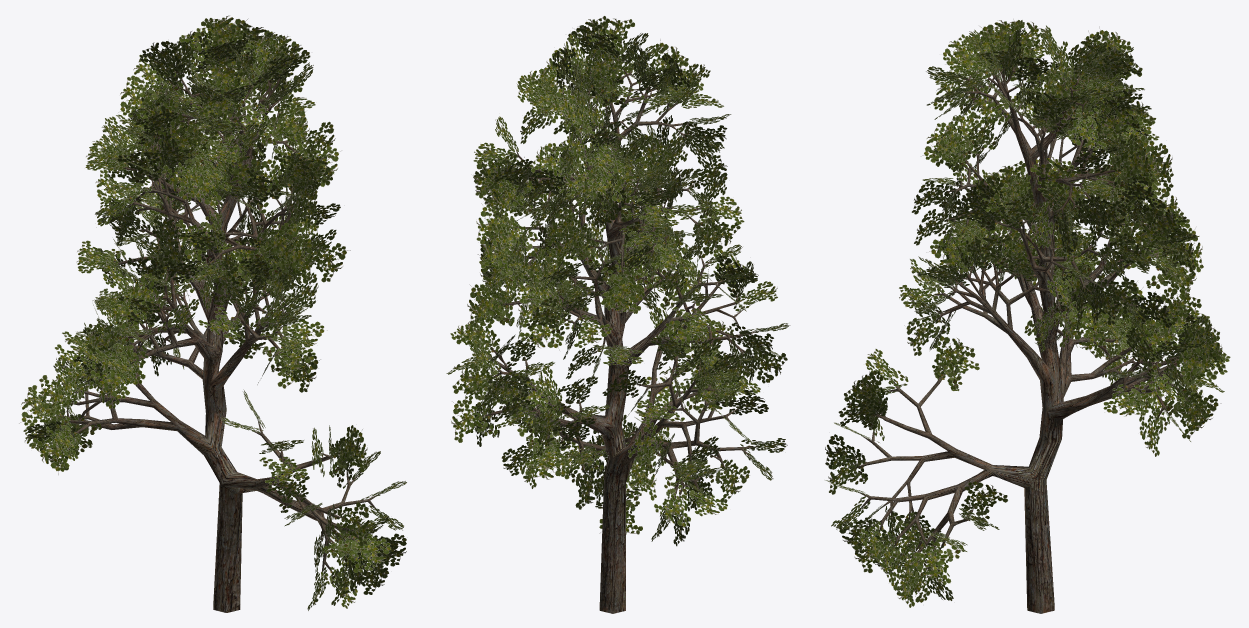
The model's file is tree-1-10.obj.
3 views of the same model, side by side, from view 1: azimuth 30°, elevation 25°; view 2: azimuth 150°, elevation 25°; view 3: azimuth 270°, elevation 25° (orthographic). The views are drawn at different scales.
Visible parts, largest first — view 1: Twig0, Tree0; view 2: Twig0, Tree0; view 3: Twig0, Tree0.
Part boxes in pixels (box(x1,y1,x2,y2)): Twig0: box(19, 15, 406, 610); Tree0: box(57, 54, 380, 612); Twig0: box(446, 16, 790, 546); Tree0: box(481, 57, 758, 613); Twig0: box(825, 19, 1230, 607); Tree0: box(852, 61, 1187, 613).
Bounding box in the file's own units: 3.86 × 6.76 × 4.29.
2 materials, 2 textured.
